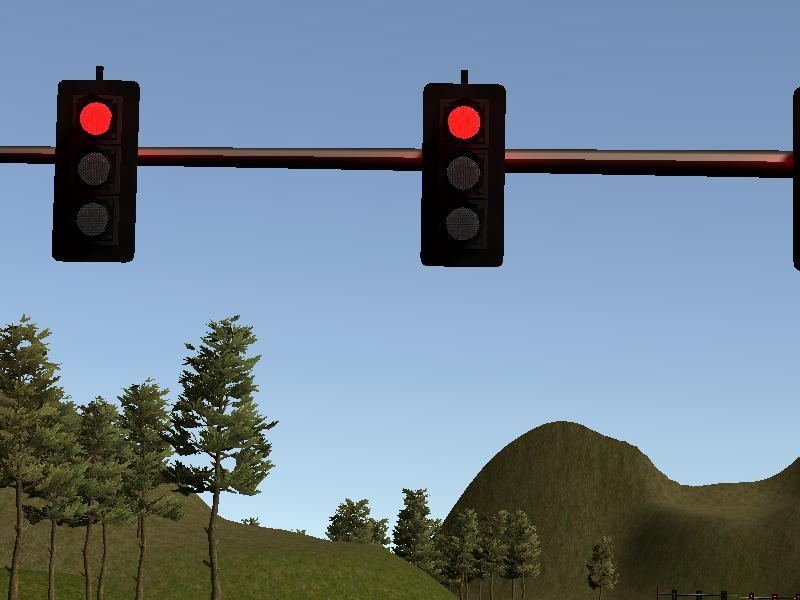Red: (427, 80, 503, 263), (58, 79, 130, 261)
